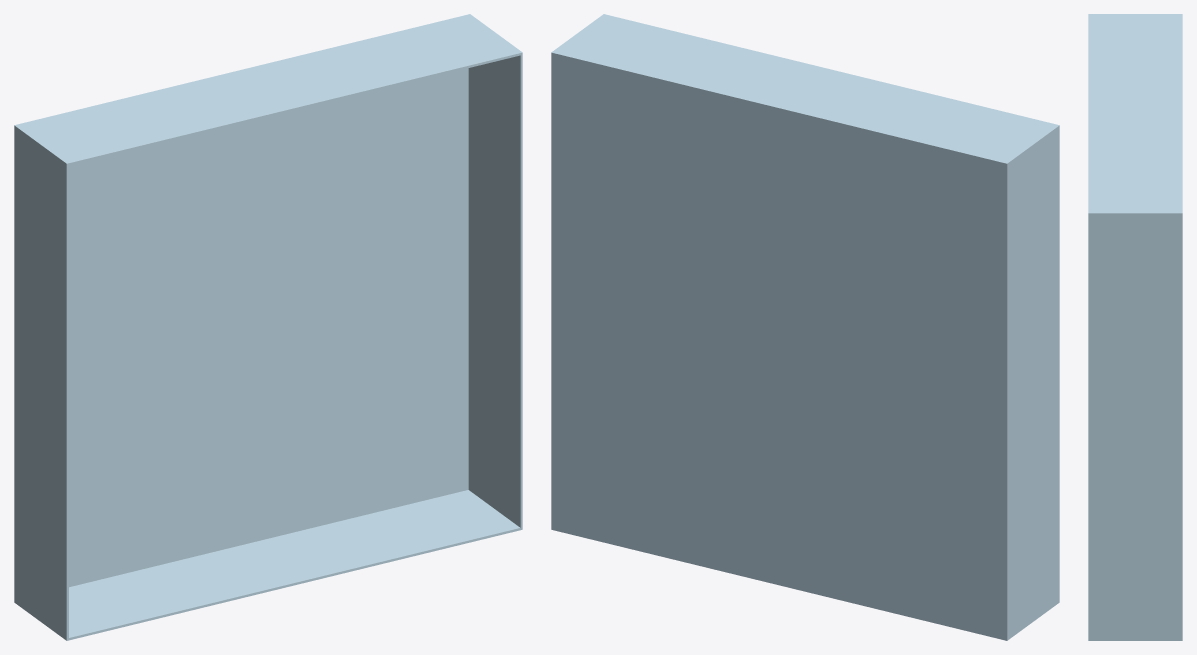
Rendered from room.gltf.
3 renders of one model, left to right at view 1: azimuth 30°, elevation 25°; view 2: azimuth 150°, elevation 25°; view 3: azimuth 270°, elevation 25°, orthographic. The views are drawn at different scales.
Parts seen in each view (by area): view 1: Part 1; view 2: Part 1; view 3: Part 1.
Boxes of the visible parts, x1,y1,x2,y2 form: Part 1: (14,14,522,640); Part 1: (551,14,1059,640); Part 1: (1088,14,1182,640).
Size of the model in its own units: 10 by 10 by 2.
